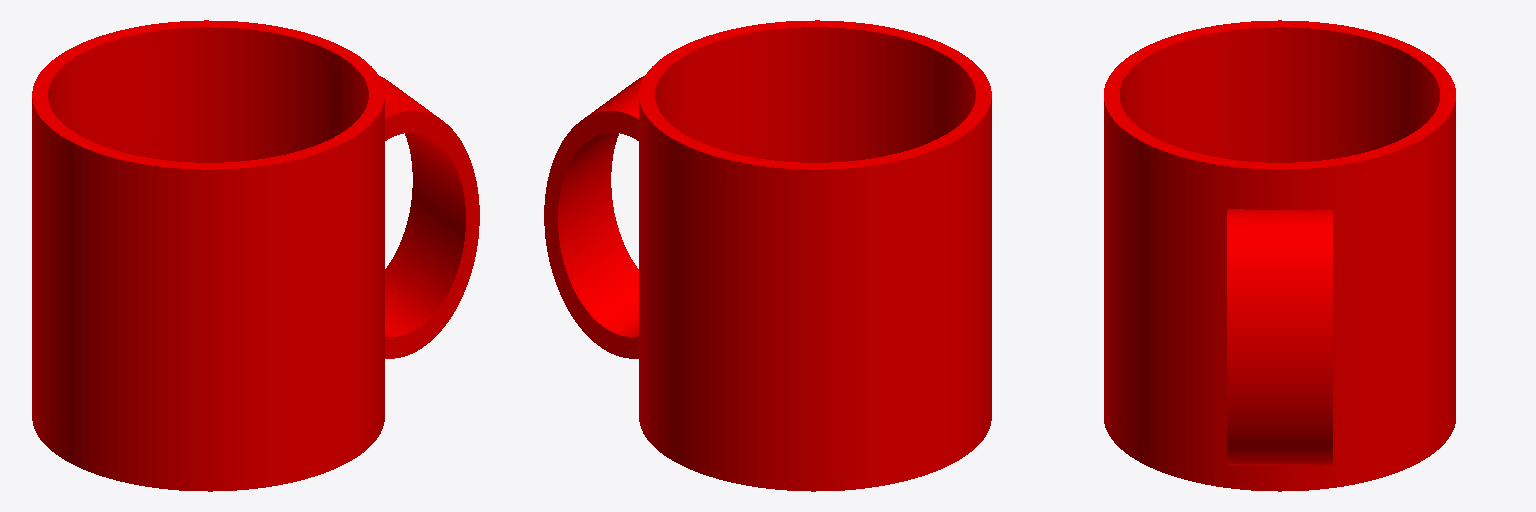
URDF robot description (mug.urdf):
<?xml version="1.0" ?>
<robot name="mug.urdf">
  <link name="baseLink">
    <inertial>
      <origin rpy="0 0 0" xyz="0 0 0"/>
       <mass value=".1"/>
       <inertia ixx="1" ixy="0" ixz="0" iyy="1" iyz="0" izz="1"/>
    </inertial>
    <contact>
      <lateral_friction value="1.0"/>
      <inertia_scaling value="3.0"/>
    </contact>
    <visual>
      <origin rpy="0 0 0" xyz="0 0 0"/>
      <geometry>
        <mesh filename="19.stl" scale="1 1 1" />
      </geometry>
      <material name="red">
        <color rgba="1 0 0 1"/>
      </material>
    </visual>
    <collision>
      <origin rpy="0 0 0" xyz="0 0 0"/>
      <geometry>
        <mesh filename="19_convex.obj" scale="1 1 1" />
      </geometry>
    </collision>
  </link>
</robot>

--- Facts derived from the render (not from the file) ---
Views: 3 orthographic renders of the robot side by side, from view 1: azimuth 30°, elevation 25°; view 2: azimuth 150°, elevation 25°; view 3: azimuth 270°, elevation 25°.
Model mug.urdf with 1 links and 0 joints (none), rooted at baseLink, posed every joint at zero.
Links seen in each view (by area): view 1: baseLink; view 2: baseLink; view 3: baseLink.
Boxes of the visible links, x1,y1,x2,y2 form: baseLink: (32,20,479,491); baseLink: (544,20,991,491); baseLink: (1104,20,1455,491).
Size in the robot's own frame: 0.1441 by 0.1108 by 0.1115 metres.
Meshes: 1 distinct files referenced, 1 mesh visuals loaded (1 binary STL).